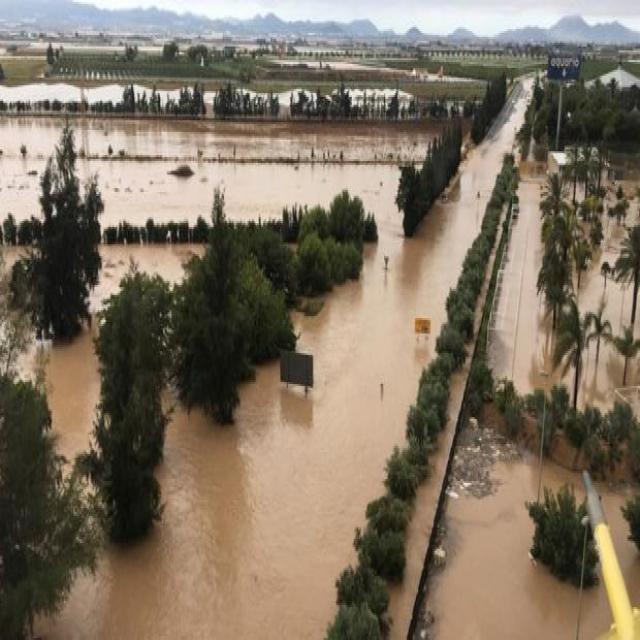flooded_areas: (0, 120, 637, 624)
